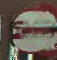No overtake: (4, 4, 54, 54)
